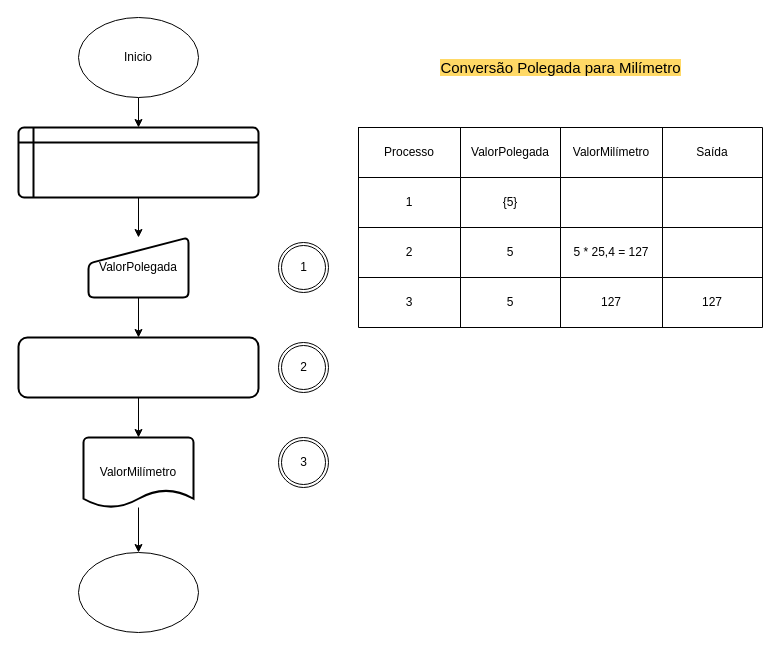
The diagram is 780 pixels wide and 650 high, and some of its shapes have lost their labels. Each missing label, with the centre of its shape:
Fim: [138,592]
ValorMilímetro = ValorPolegada * 25,4: [138,367]
ValorPolegada, ValorMilímetro: [138,162]
